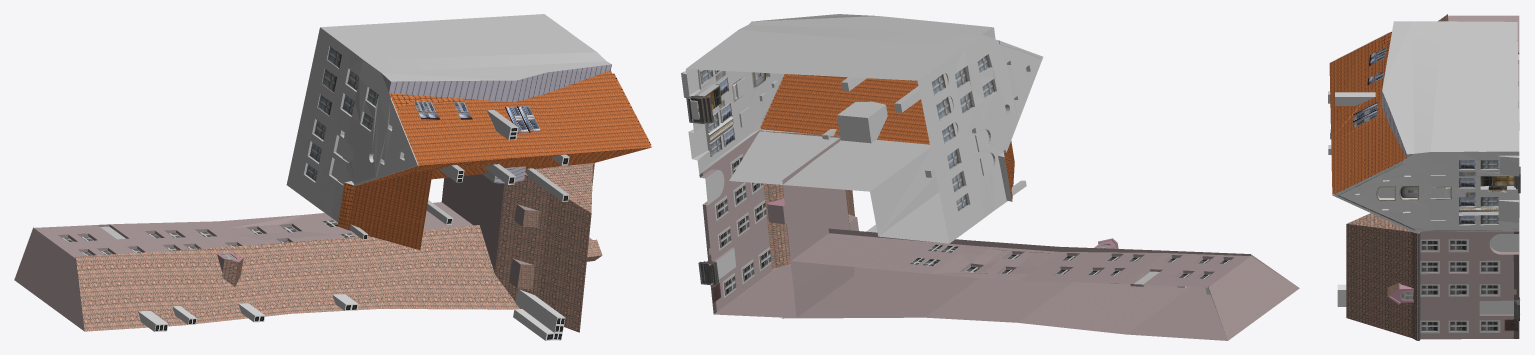
The model's file is Vene_21.obj.
3 views of the same model, side by side, from view 1: azimuth 30°, elevation 25°; view 2: azimuth 150°, elevation 25°; view 3: azimuth 270°, elevation 25° (orthographic). The views are drawn at different scales.
Parts seen in each view (by area): view 1: Vene_21; view 2: Vene_21; view 3: Vene_21.
Boxes of the visible parts, box(x1,y1,x2,y2) form: Vene_21: box(14, 14, 652, 340); Vene_21: box(681, 14, 1299, 340); Vene_21: box(1328, 14, 1520, 340).
Size of the model in its own units: 55.27 by 27.34 by 20.31.
